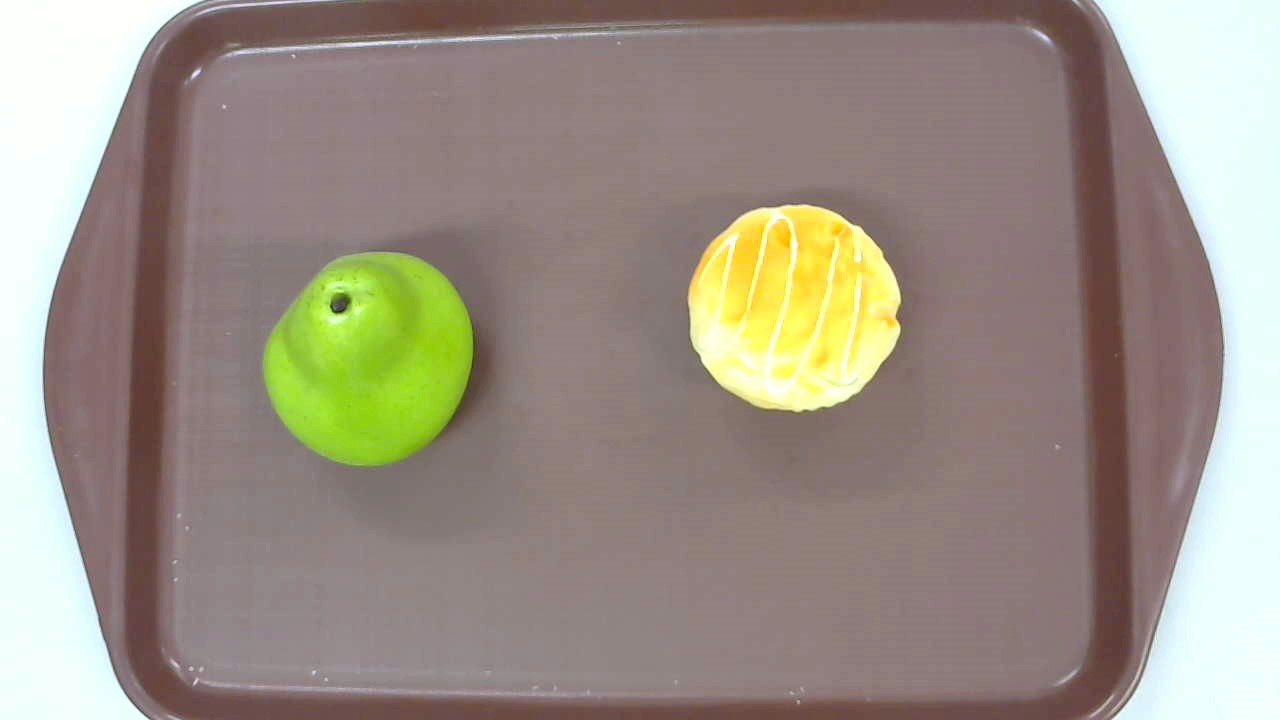cupcake: (688, 204, 900, 411)
green pear: (261, 250, 474, 466)
